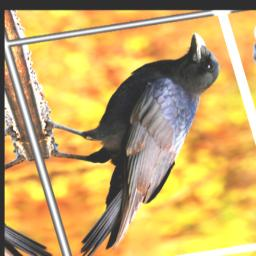Crow: (22, 29, 256, 256)
